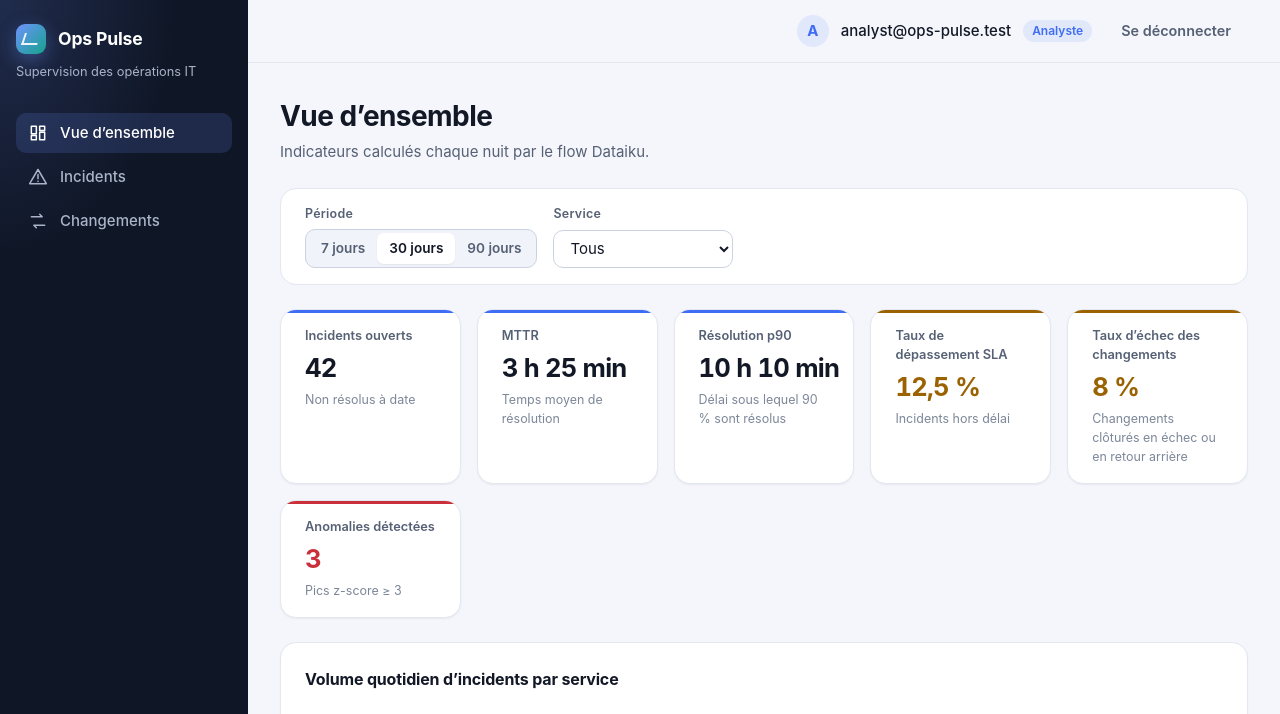
AppLayout › navigates between sections
The image size is (1280, 714).
Click the link "Changements" at (94, 221), box [28,211,160,231]
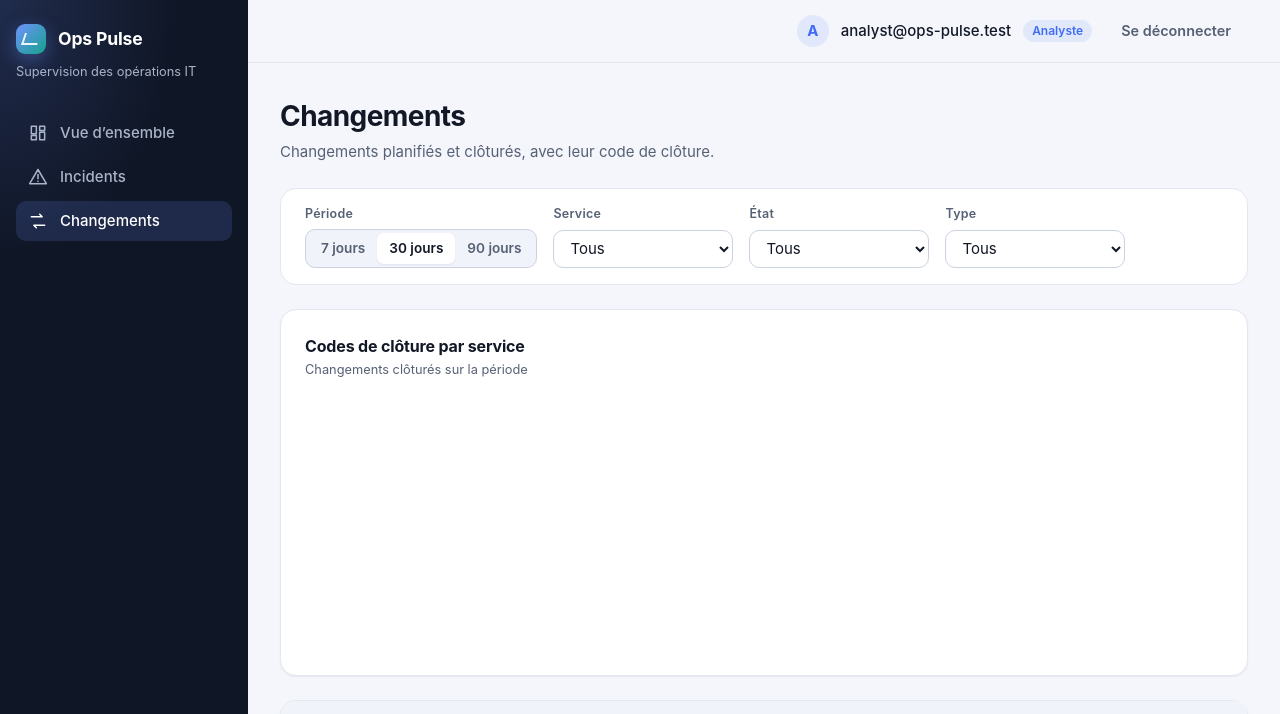
Check: the heading "Changements" is shown, box [280,99,466,133]
